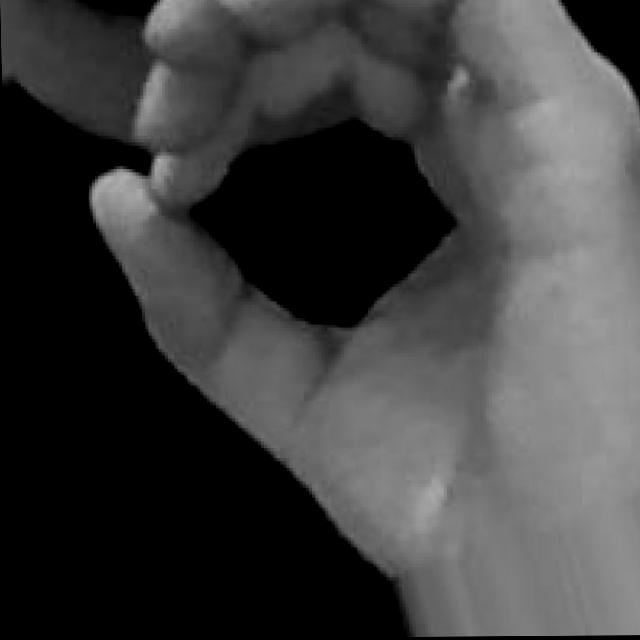O: (78, 0, 640, 639)
